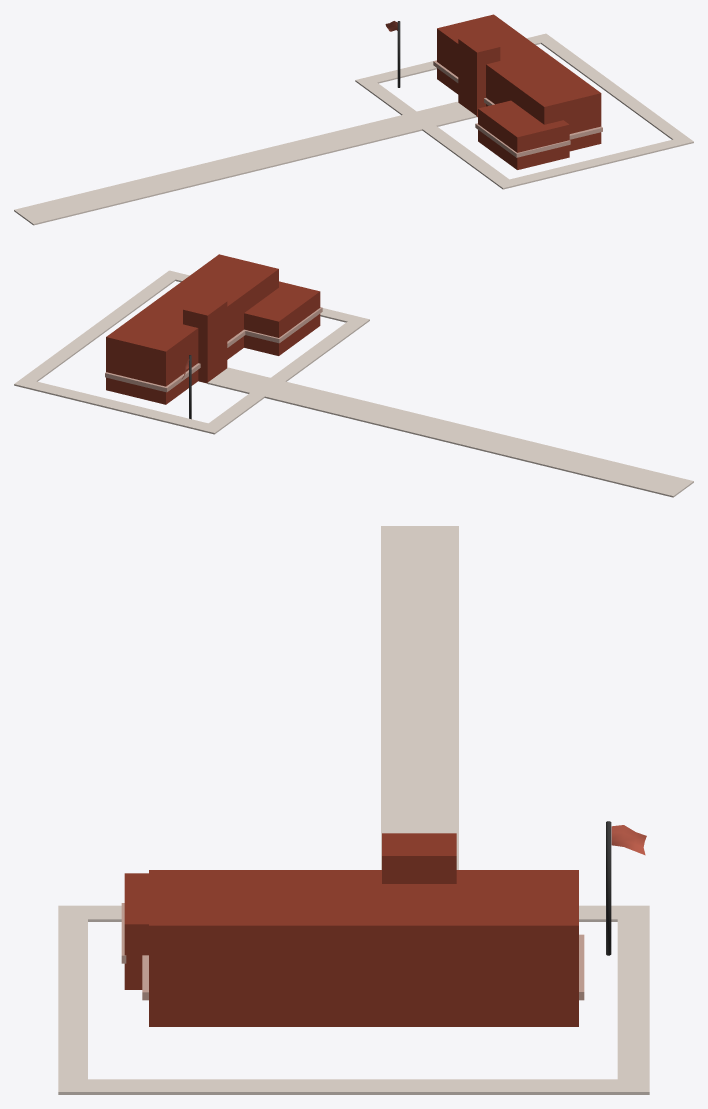
The model's file is school.fbx.
3 renders of one model, top to bottom at view 1: azimuth 30°, elevation 25°; view 2: azimuth 150°, elevation 25°; view 3: azimuth 270°, elevation 25°, orthographic. The views are drawn at different scales.
Visible parts, largest first — view 1: Building, Path, Path2, Flag; view 2: Building, Path, Path2; view 3: Building, Path, Path2, Flag.
Boxes of the visible parts, x1,y1,x2,y2 form: Building: (433,14,602,169); Path: (14,102,476,225); Path2: (355,33,693,189); Flag: (385,21,400,87); Building: (105,254,322,404); Path: (207,367,693,497); Path2: (14,270,369,434); Building: (121,833,584,1026); Path: (381,526,458,869); Path2: (58,905,649,1094); Flag: (606,821,646,955).
Bounding box in the file's own units: 40.22 × 4.72 × 17.75.
